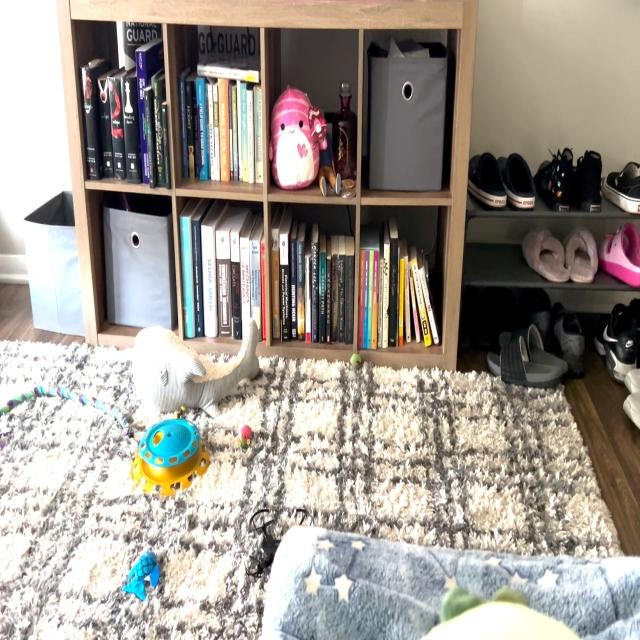drone: (243, 499, 318, 597)
